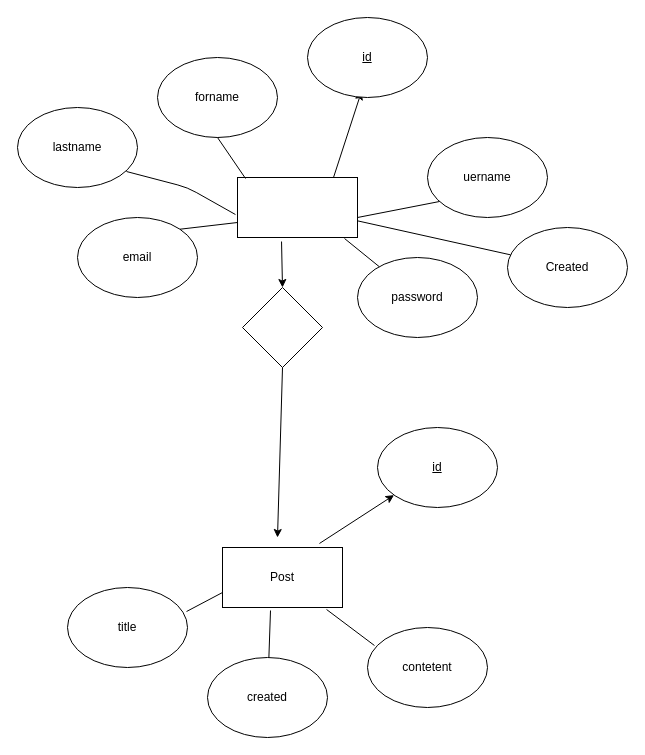
Some shapes in this 645 by 755 pixel diagram are drawn without their labels. Each missing label, with the box of its shape:
Makes: (242, 286, 322, 368)
User: (236, 176, 358, 238)
